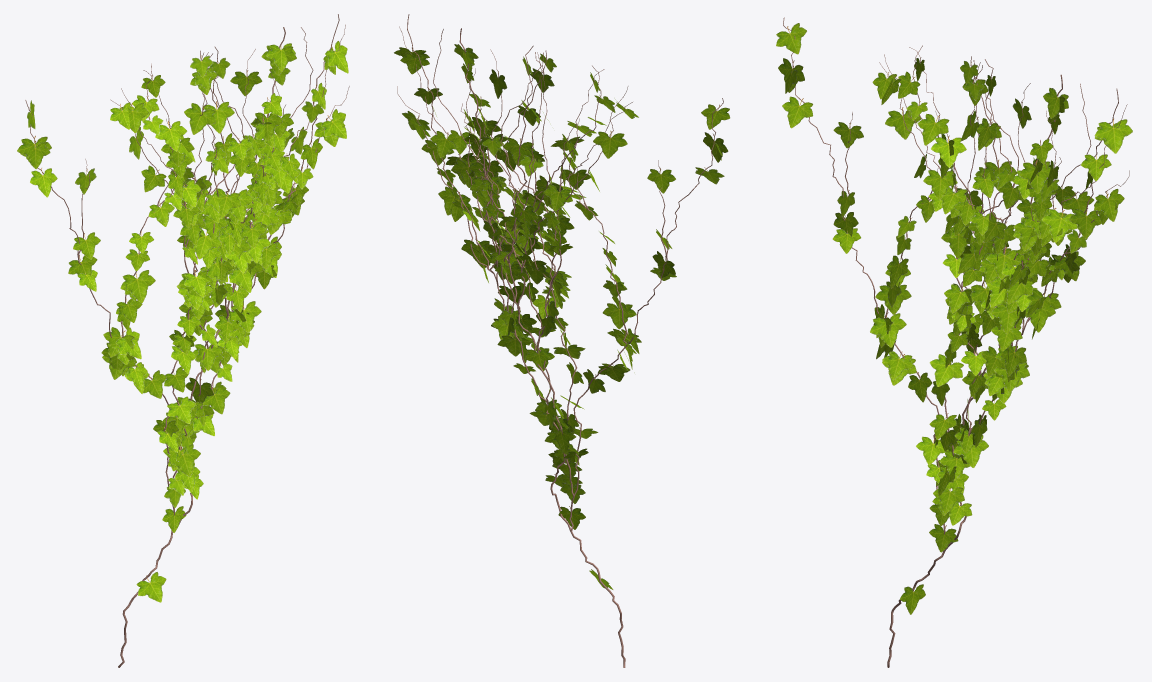
File: ivy.fbx
The picture shows the model from 3 angles, left to right: view 1: azimuth 30°, elevation 25°; view 2: azimuth 150°, elevation 25°; view 3: azimuth 330°, elevation 25°; orthographic projection. The views are drawn at different scales.
Parts seen in each view (by area): view 1: IVY_Curve, IVY_Curve|Plane.001|Dupli|144, IVY_Curve|Plane.001|Dupli|56, IVY_Curve|Plane.001|Dupli|223, IVY_Curve|Plane.001|Dupli|87; view 2: IVY_Curve, IVY_Curve|Plane.001|Dupli|10; view 3: IVY_Curve, IVY_Curve|Plane.001|Dupli|44, IVY_Curve|Plane.001|Dupli|23, IVY_Curve|Plane.001|Dupli|211, IVY_Curve|Plane.001|Dupli|70, IVY_Curve|Plane.001|Dupli|87, IVY_Curve|Plane.001|Dupli|2, IVY_Curve|Plane.001|Dupli|10, IVY_Curve|Plane.001|Dupli|75, IVY_Curve|Plane.001|Dupli|57, IVY_Curve|Plane.001|Dupli|9, IVY_Curve|Plane.001|Dupli|193 (+2 smaller).
Boxes of the visible parts, box(x1,y1,x2,y2) form: IVY_Curve: box(25, 14, 349, 667); IVY_Curve|Plane.001|Dupli|144: box(120, 270, 155, 303); IVY_Curve|Plane.001|Dupli|56: box(184, 103, 215, 134); IVY_Curve|Plane.001|Dupli|223: box(136, 572, 166, 602); IVY_Curve|Plane.001|Dupli|87: box(155, 121, 187, 151); IVY_Curve: box(397, 14, 723, 667); IVY_Curve|Plane.001|Dupli|10: box(593, 130, 627, 158); IVY_Curve: box(783, 17, 1129, 667); IVY_Curve|Plane.001|Dupli|44: box(1094, 118, 1132, 153); IVY_Curve|Plane.001|Dupli|23: box(870, 313, 906, 347); IVY_Curve|Plane.001|Dupli|211: box(929, 354, 963, 386); IVY_Curve|Plane.001|Dupli|70: box(1041, 209, 1077, 242); IVY_Curve|Plane.001|Dupli|87: box(917, 113, 949, 145); IVY_Curve|Plane.001|Dupli|2: box(930, 135, 966, 167); IVY_Curve|Plane.001|Dupli|10: box(885, 107, 921, 139); IVY_Curve|Plane.001|Dupli|75: box(782, 96, 813, 128); IVY_Curve|Plane.001|Dupli|57: box(1069, 208, 1101, 238); IVY_Curve|Plane.001|Dupli|9: box(776, 23, 806, 54); IVY_Curve|Plane.001|Dupli|193: box(1018, 160, 1050, 193).
Size of the model in its own units: 94.17 by 157 by 12.05.
